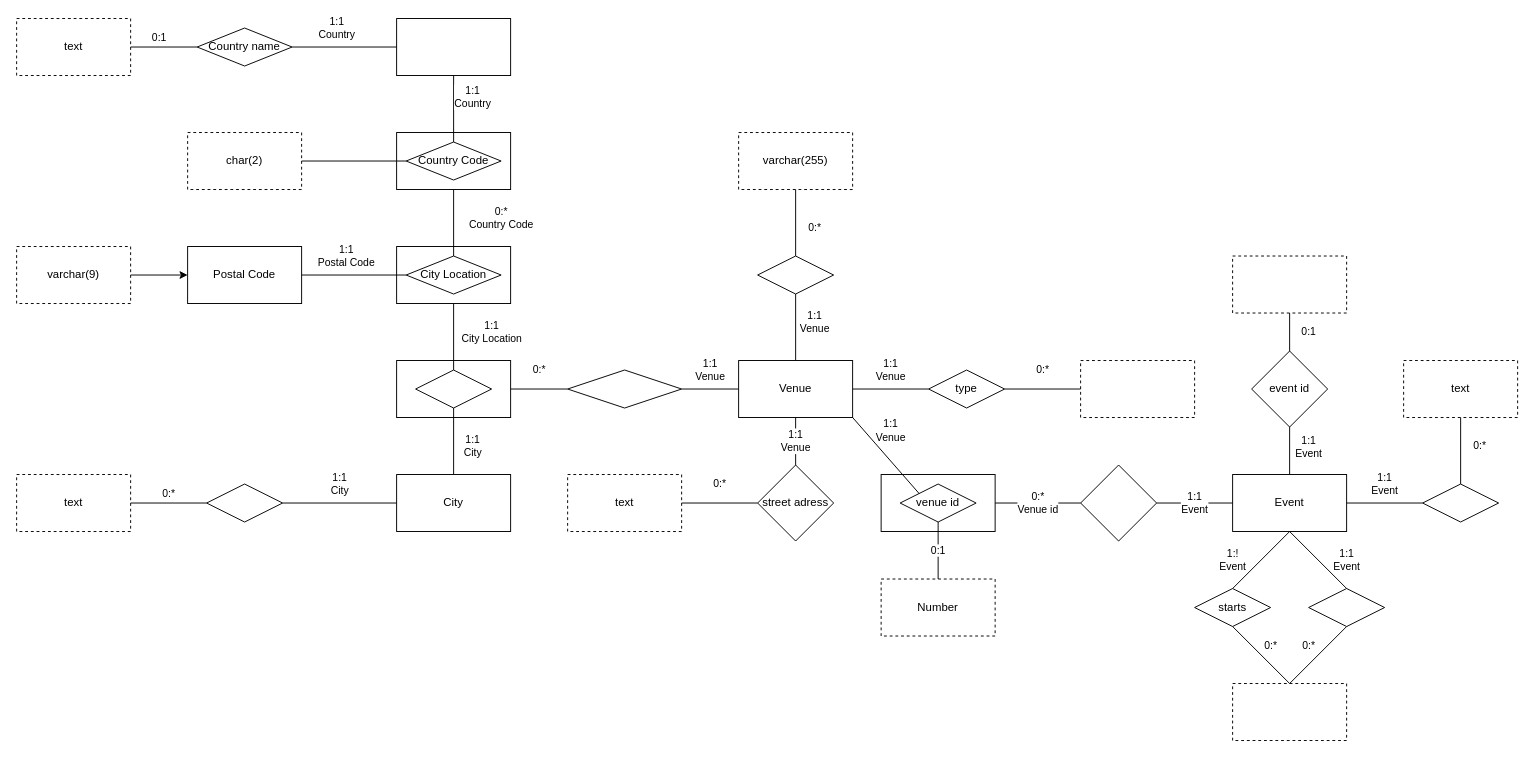
This 1534x758 diagram has some shape labels left out. The shapes that lost their labels are listed below. From the top down, each one's box as (x1, y1, x2, y2) in pixels, then its label:
(396, 18, 511, 76): Country
(757, 255, 834, 294): name
(1232, 255, 1347, 313): integer
(567, 369, 682, 408): Venue Location
(1080, 360, 1195, 418): char(7)
(206, 483, 283, 522): City Name
(1080, 464, 1157, 541): Venue Event
(1422, 483, 1499, 522): title
(1308, 588, 1385, 627): ends
(1232, 683, 1347, 741): timestamp
